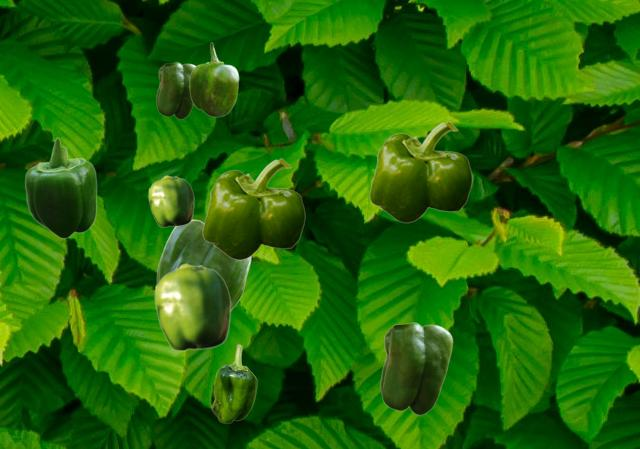bell_pepper: (369, 121, 471, 222), (202, 158, 304, 259), (156, 219, 250, 311), (24, 137, 96, 238), (380, 322, 452, 414), (154, 263, 230, 350), (189, 42, 238, 116), (211, 344, 256, 422), (148, 175, 193, 226), (156, 62, 195, 118)
